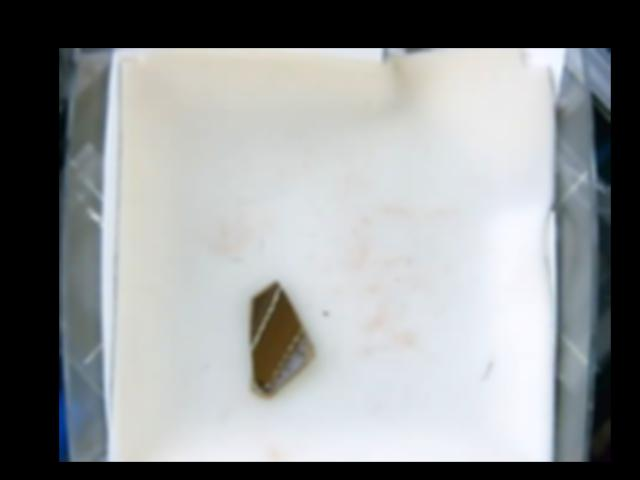China: (247, 279, 317, 398)
